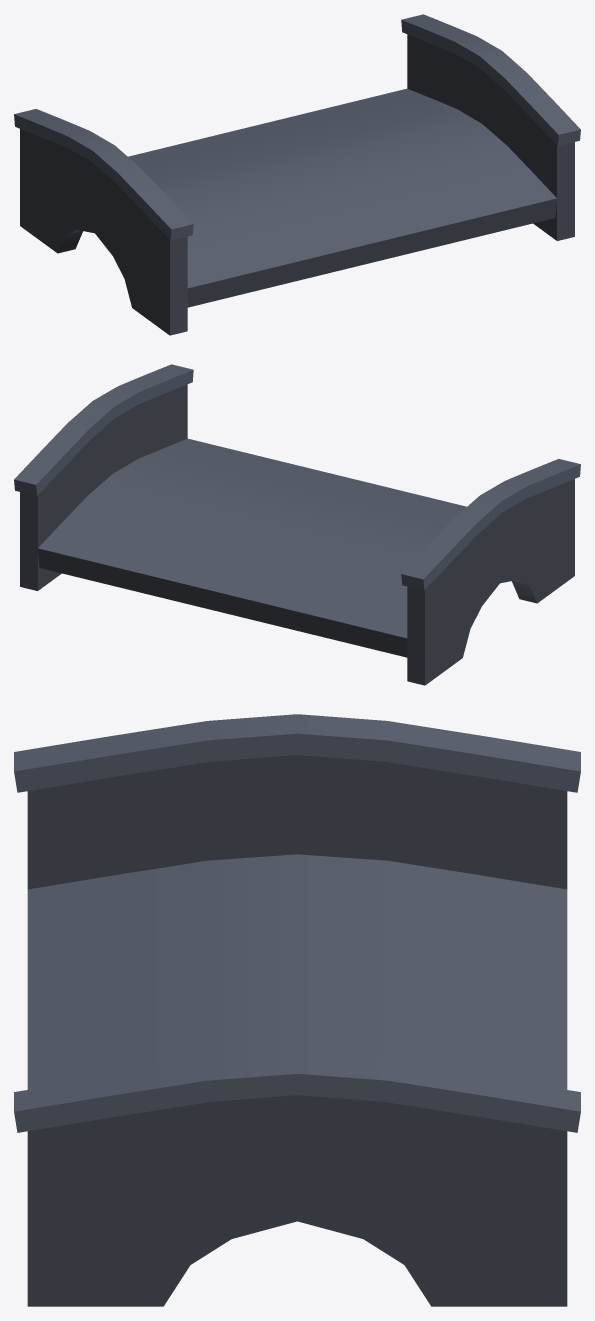
Rendered from Bridge_big.fbx.
3 renders of one model, top to bottom at view 1: azimuth 30°, elevation 25°; view 2: azimuth 150°, elevation 25°; view 3: azimuth 270°, elevation 25°, orthographic. The views are drawn at different scales.
Visible parts, largest first — view 1: Bridge_big; view 2: Bridge_big; view 3: Bridge_big.
Part boxes in pixels (<box>): Bridge_big: <box>14,14,580,335</box>; Bridge_big: <box>14,364,580,685</box>; Bridge_big: <box>14,714,580,1306</box>.
Bounding box in the file's own units: 1040 × 317 × 693.
